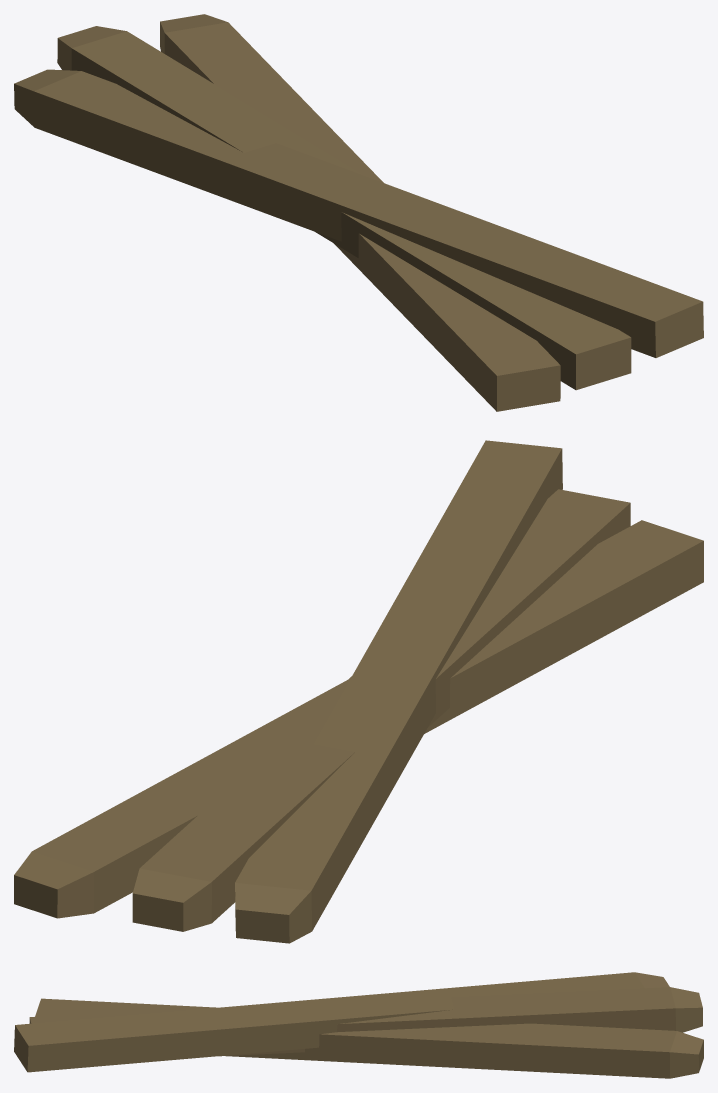
The model's file is dry_flax.fbx.
3 renders of one model, top to bottom at view 1: azimuth 30°, elevation 25°; view 2: azimuth 150°, elevation 25°; view 3: azimuth 270°, elevation 25°, orthographic. The views are drawn at different scales.
Parts seen in each view (by area): view 1: dry_flax.010; view 2: dry_flax.010; view 3: dry_flax.010.
Part boxes in pixels (bbox=[...]): dry_flax.010: bbox=[14, 14, 703, 411]; dry_flax.010: bbox=[14, 440, 703, 943]; dry_flax.010: bbox=[14, 972, 703, 1078].
Bounding box in the file's own units: 14.12 × 3.58 × 43.99.
